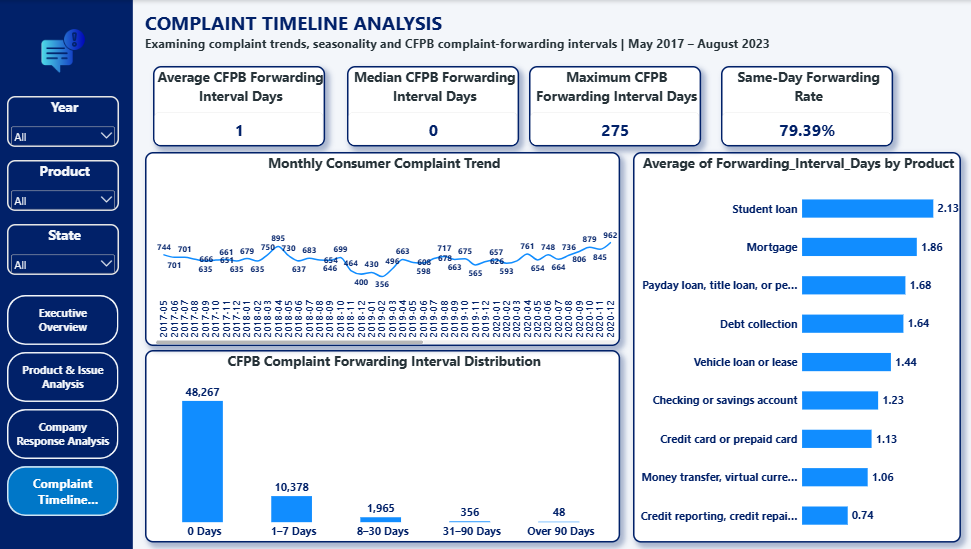

This screenshot's page, from the dashboard's own definition file:
{"tool":"powerbi","page":{"name":"Complaint Timeline Analysis","canvas":[1920,1080],"ordinal":3},"visuals":[{"type":"textbox","box":[286.9,0,1238.9,128.7],"z":0},{"type":"clusteredColumnChart","title":"CFPB Complaint Forwarding Interval Distribution","fields":{"Category":["consumer_complaints_analytics complaints.Forwarding Interval Group"],"Y":["KPI Measures.Total Complaints"]},"box":[286.9,686.5,933.2,378.1],"z":7000},{"type":"clusteredBarChart","fields":{"Category":["consumer_complaints_analytics complaints.Product"],"Y":["Avg(consumer_complaints_analytics complaints.Forwarding_Interval_Days)"]},"box":[1244.2,297.7,643.6,766.9],"z":10000},{"type":"shape","box":[0,0,262.8,1080.7],"z":10001},{"type":"slicer","title":"Year","fields":{"Values":["Date.Year"]},"box":[16.1,187.7,220,100],"z":10002},{"type":"slicer","title":"Product","fields":{"Values":["consumer_complaints_analytics complaints.Product"]},"box":[16.1,314.1,220,100],"z":10003},{"type":"slicer","title":"State","fields":{"Values":["consumer_complaints_analytics complaints.State"]},"box":[16.1,439.8,220,100],"z":10004},{"type":"pageNavigator","box":[16.1,579.2,219.9,437.1],"z":10005},{"type":"cardVisual","title":"Average CFPB Forwarding Interval Days","fields":{"Data":["KPI Measures.Average Forwarding Interval"]},"box":[303,128.7,337.9,158.2],"z":10006},{"type":"cardVisual","title":"Median CFPB Forwarding Interval Days","fields":{"Data":["KPI Measures.Medain Forwarding Interval"]},"box":[683.8,128.7,337.9,158.2],"z":10007},{"type":"cardVisual","title":"Maximum CFPB Forwarding Interval Days","fields":{"Data":["KPI Measures.Maximum Forwarding Interval"]},"box":[1040.4,128.7,337.9,158.2],"z":10008},{"type":"cardVisual","title":"Same-Day Forwarding Rate","fields":{"Data":["KPI Measures.Same-Day Forwarding Rate"]},"box":[1418.5,128.7,337.9,158.2],"z":10009},{"type":"lineChart","title":"Monthly Consumer Complaint Trend","fields":{"Category":["Date.Year-Month"],"Y":["KPI Measures.Total Complaints"]},"box":[286.9,297.7,933.2,380.8],"z":10010},{"type":"image","box":[74.9,50.7,100,100],"z":10011}]}

Visuals, with their boxes in screenshot pixels (x1, y1, x2, y2), scaled from the page's 1920x1080 canvas onto the 971x549 screenshot:
textbox: [left=145, top=0, right=772, bottom=65]
"CFPB Complaint Forwarding Interval Distribution" clusteredColumnChart: [left=145, top=349, right=617, bottom=541]
clusteredBarChart - consumer_complaints_analytics complaints.Product x Avg(consumer_complaints_analytics complaints.Forwarding_Interval_Days): [left=629, top=151, right=955, bottom=541]
shape: [left=0, top=0, right=133, bottom=548]
"Year" slicer: [left=8, top=95, right=119, bottom=146]
"Product" slicer: [left=8, top=160, right=119, bottom=211]
"State" slicer: [left=8, top=224, right=119, bottom=274]
pageNavigator: [left=8, top=294, right=119, bottom=517]
"Average CFPB Forwarding Interval Days" cardVisual: [left=153, top=65, right=324, bottom=146]
"Median CFPB Forwarding Interval Days" cardVisual: [left=346, top=65, right=517, bottom=146]
"Maximum CFPB Forwarding Interval Days" cardVisual: [left=526, top=65, right=697, bottom=146]
"Same-Day Forwarding Rate" cardVisual: [left=717, top=65, right=888, bottom=146]
"Monthly Consumer Complaint Trend" lineChart: [left=145, top=151, right=617, bottom=345]
image: [left=38, top=26, right=88, bottom=77]
